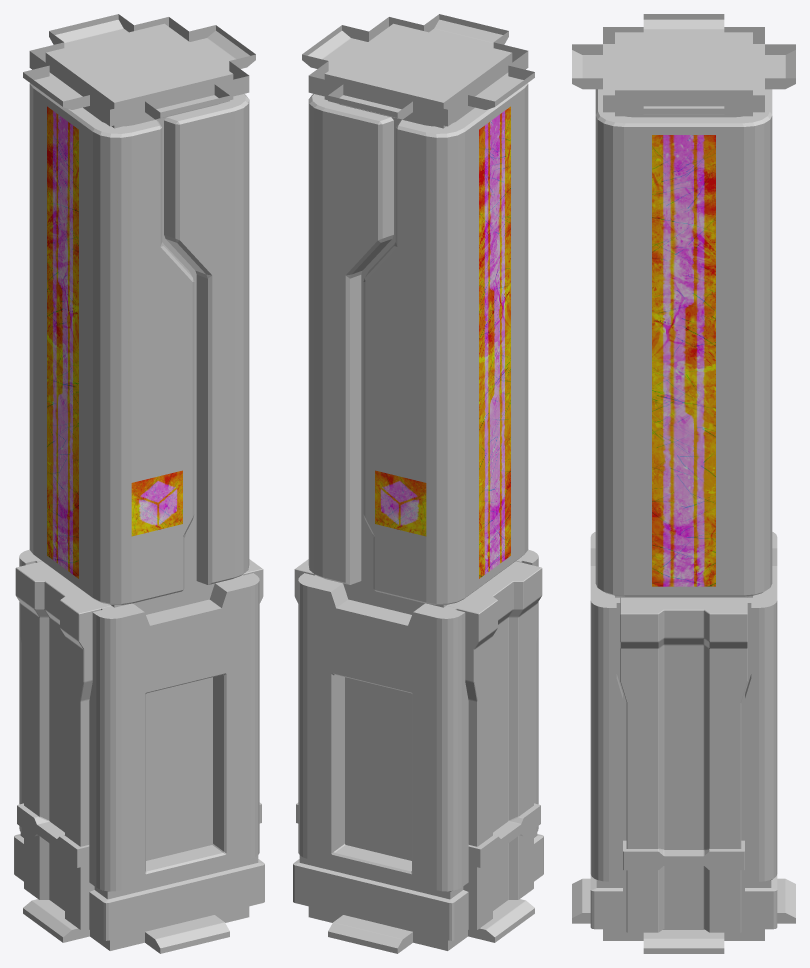
The model's file is column_03.fbx.
3 renders of one model, left to right at view 1: azimuth 30°, elevation 25°; view 2: azimuth 150°, elevation 25°; view 3: azimuth 270°, elevation 25°, orthographic.
Parts seen in each view (by area): view 1: Cube.341, Cube.339, Cube.345, Cube.347, Cube.343, Cube.342, Cube.340; view 2: Cube.341, Cube.339, Cube.345, Cube.347, Cube.343, Cube.342, Cube.340; view 3: Cube.341, Cube.345, Cube.343, Cube.339, Cube.347, Cube.340, Cube.342.
Part boxes in pixels (x1,y1,x2,y2): Cube.341: (29,83,249,604); Cube.339: (19,549,259,891); Cube.345: (14,559,264,940); Cube.347: (44,576,223,910); Cube.343: (47,106,182,578); Cube.342: (45,23,233,614); Cube.340: (23,14,255,953); Cube.341: (308,83,528,604); Cube.339: (298,549,538,891); Cube.345: (293,559,543,940); Cube.347: (334,576,513,910); Cube.343: (375,106,510,578); Cube.342: (324,23,512,614); Cube.340: (302,14,534,953); Cube.341: (595,89,772,596); Cube.345: (590,597,777,932); Cube.343: (652,135,715,586); Cube.339: (590,532,777,881); Cube.347: (663,597,704,928); Cube.340: (572,14,795,953); Cube.342: (615,32,752,597).
Bounding box in the file's own units: 1.2 × 5 × 1.2.
